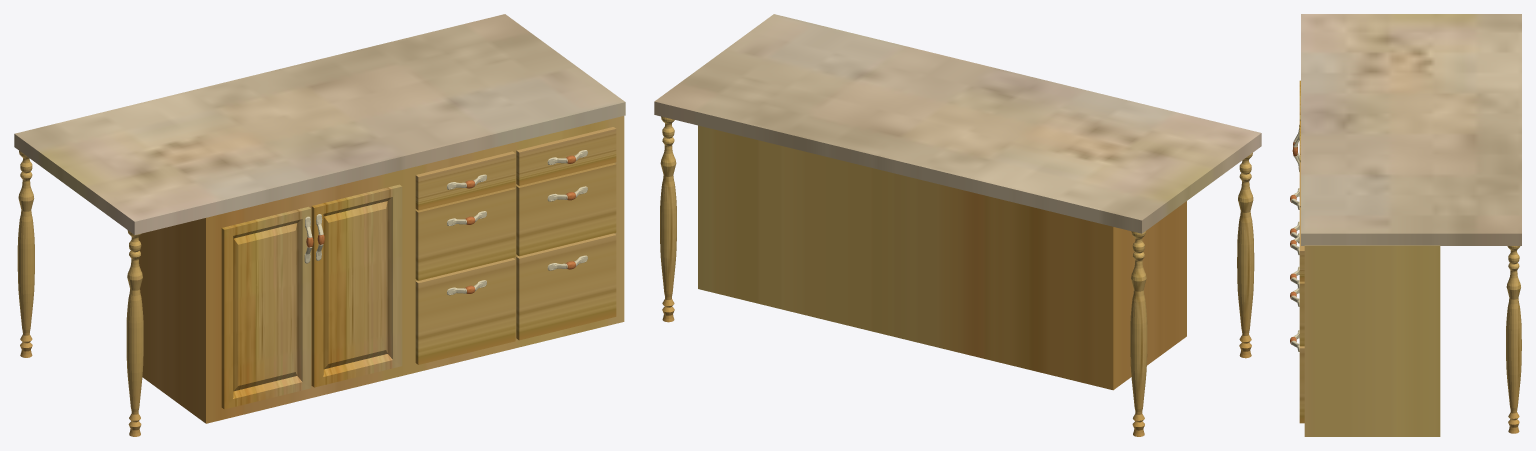
File: sweethome3d-contributions-wood-island.glb
The picture shows the model from 3 angles, left to right: view 1: azimuth 30°, elevation 25°; view 2: azimuth 150°, elevation 25°; view 3: azimuth 270°, elevation 25°; orthographic projection. The views are drawn at different scales.
Parts seen in each view (by area): view 1: PolyMesh_2, PolyMesh_1, PolyMesh_1_1, PolyMesh_1_2, Cube_3_5, Cube_3, Cube_3_4, Cube_3_1, Cube_3_2, Cube_3_3, Lathed_Object_3_2, Lathed_Object_3_1; view 2: PolyMesh_1, PolyMesh_2, Lathed_Object_3_1, Lathed_Object_3, Lathed_Object_3_2; view 3: PolyMesh_2, PolyMesh_1, Lathed_Object_3, Cube_3_5, Cube_3_4, Cube_3_3.
Boxes of the visible parts, x1,y1,x2,y2 form: PolyMesh_2: (14,14,625,234); PolyMesh_1: (138,116,624,423); PolyMesh_1_1: (311,184,402,387); PolyMesh_1_2: (221,206,311,409); Cube_3_5: (516,233,616,340); Cube_3: (415,258,515,364); Cube_3_4: (516,163,616,256); Cube_3_1: (415,187,515,280); Cube_3_2: (415,151,515,210); Cube_3_3: (516,127,616,185); Lathed_Object_3_2: (126,230,143,436); Lathed_Object_3_1: (17,151,34,357); PolyMesh_1: (698,125,1186,390); PolyMesh_2: (654,14,1261,233); Lathed_Object_3_1: (1130,231,1147,436); Lathed_Object_3: (660,116,676,322); Lathed_Object_3_2: (1237,153,1254,358); PolyMesh_2: (1301,14,1521,245); PolyMesh_1: (1304,245,1440,436); Lathed_Object_3: (1506,246,1521,433); Cube_3_5: (1299,346,1304,423); Cube_3_4: (1299,281,1304,346); Cube_3_3: (1299,207,1304,281).
Size of the model in its own units: 4.32 by 1.86 by 1.93.
4 materials, 3 textured.
